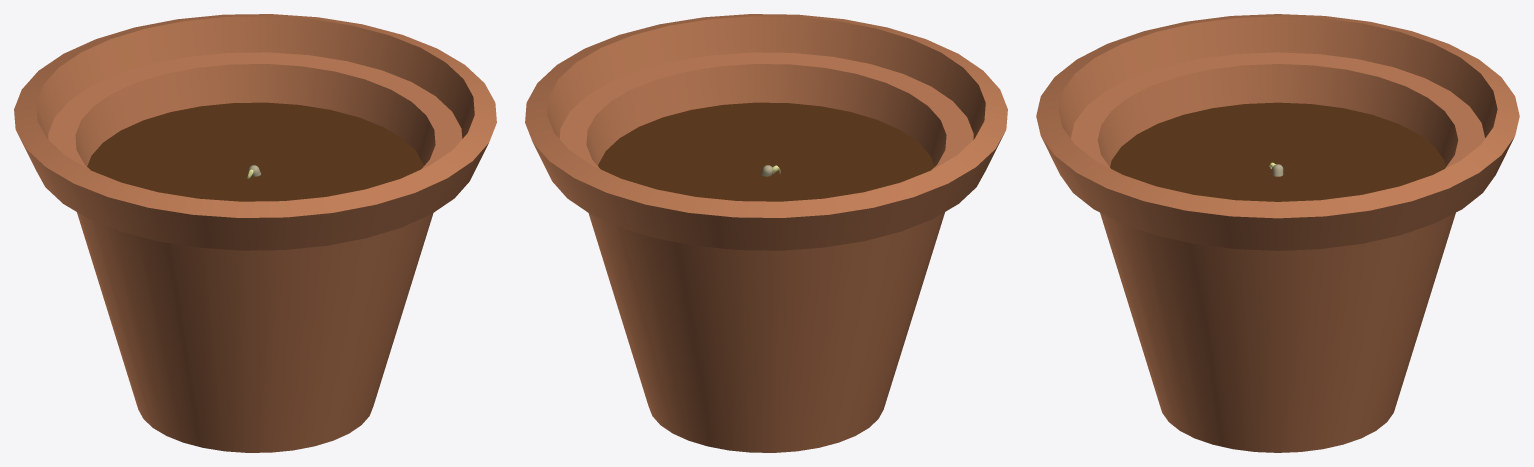
Rendered from germinate.fbx.
3 renders of one model, left to right at view 1: azimuth 30°, elevation 25°; view 2: azimuth 150°, elevation 25°; view 3: azimuth 270°, elevation 25°, orthographic.
Visible parts, largest first — view 1: Plant Pot; view 2: Plant Pot; view 3: Plant Pot.
Boxes of the visible parts, <box> form: Plant Pot: <box>14,14,496,452</box>; Plant Pot: <box>525,14,1007,452</box>; Plant Pot: <box>1036,14,1519,452</box>.
Bounding box in the file's own units: 535 × 364 × 535.
